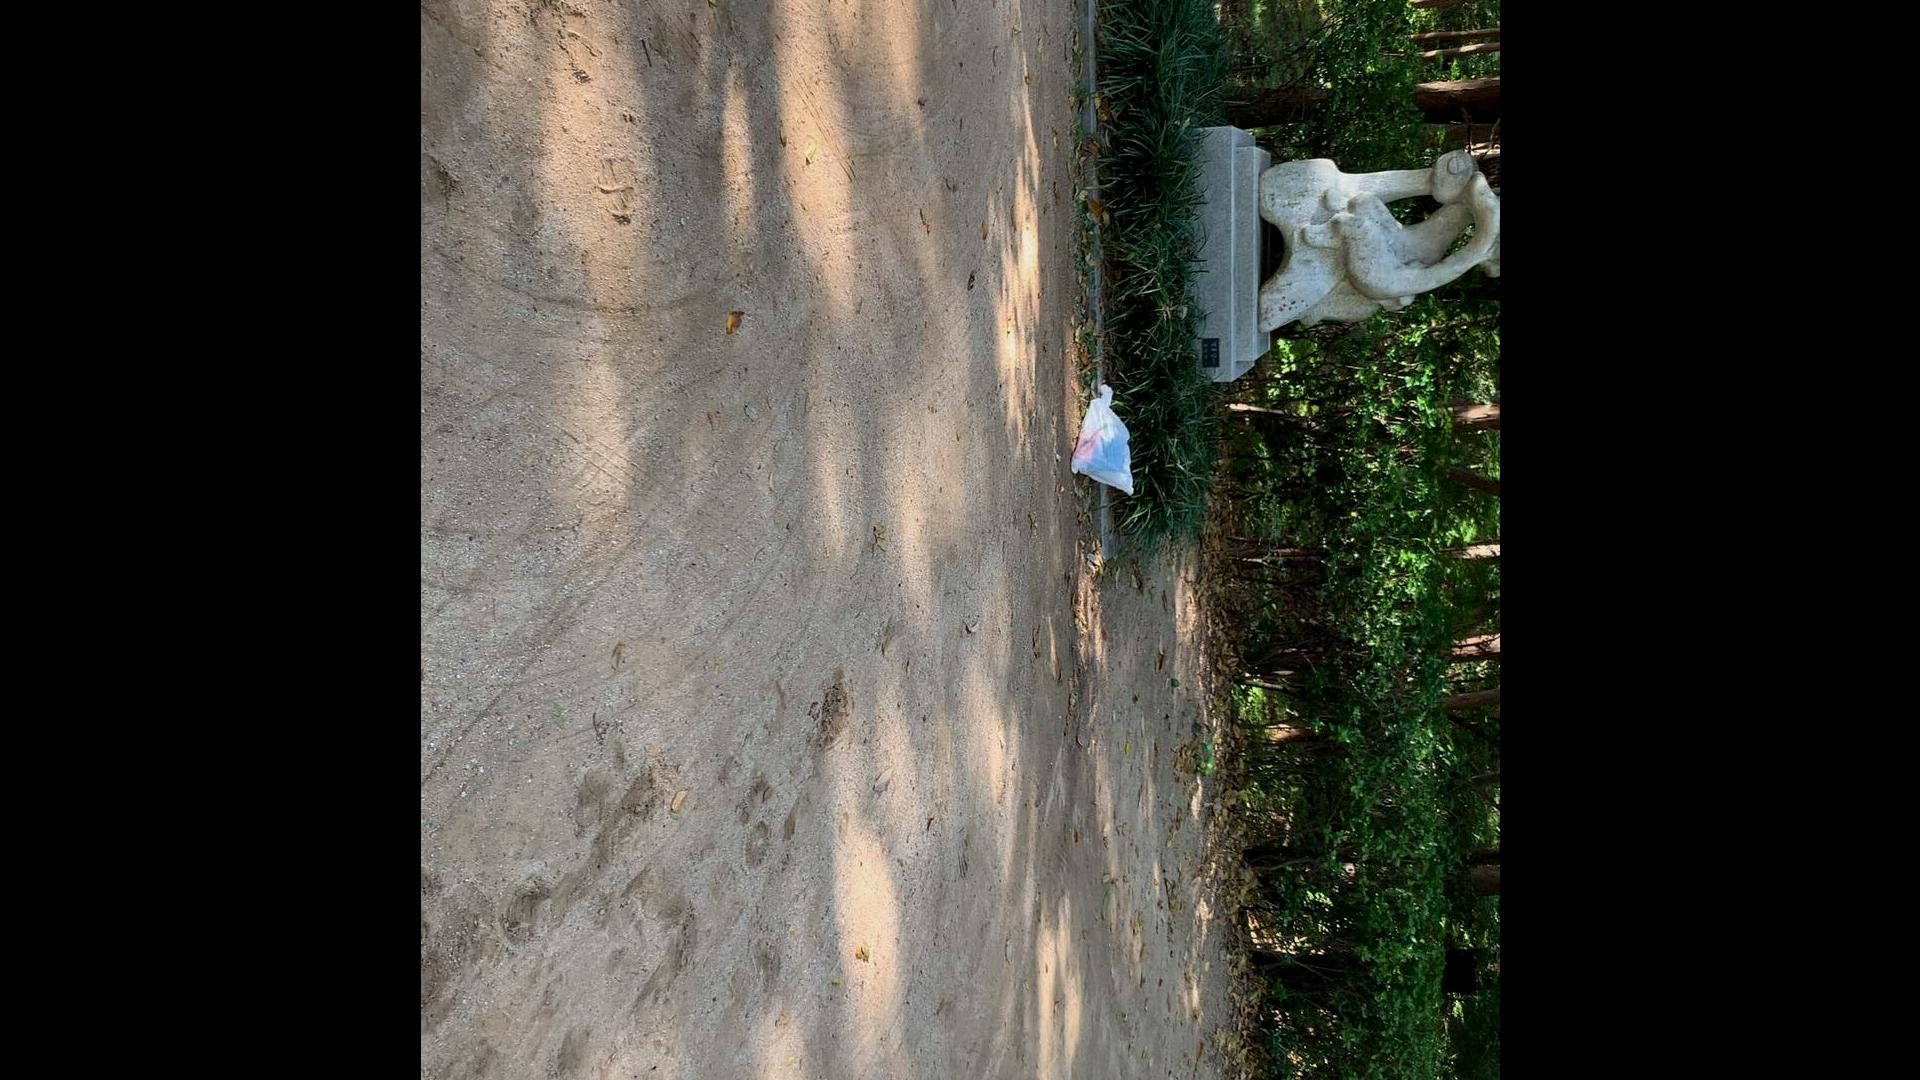white_bag: (1067, 375, 1137, 495)
